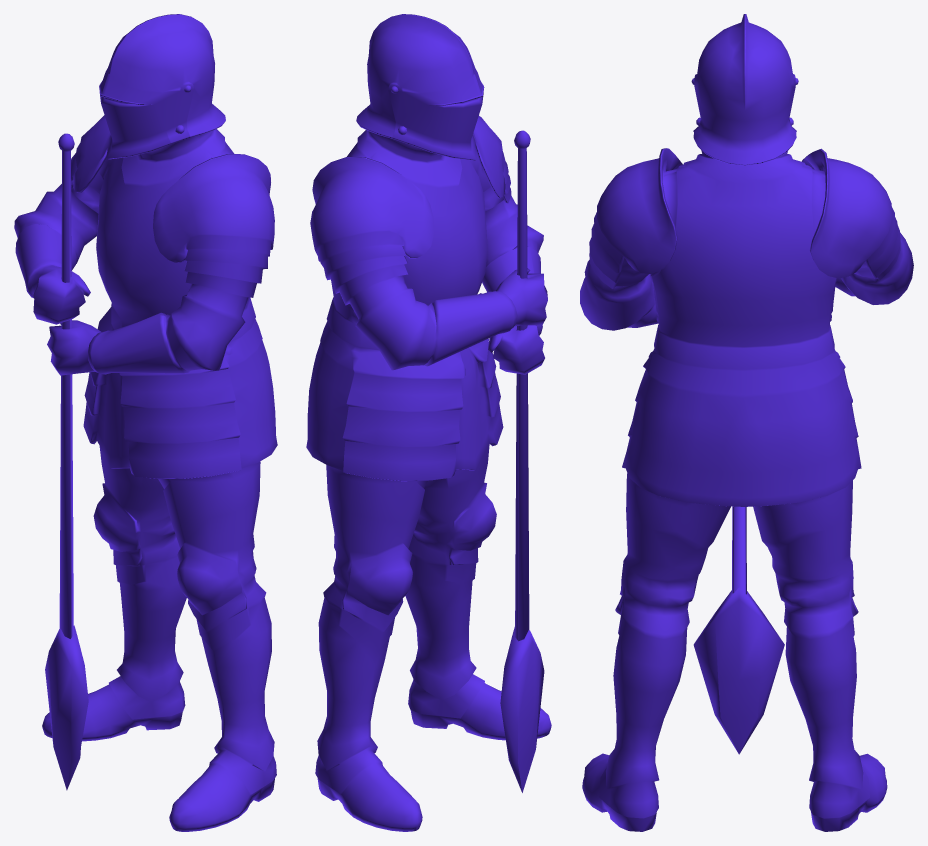
File: Statue_Spear.fbx
3 renders of one model, left to right at view 1: azimuth 30°, elevation 25°; view 2: azimuth 150°, elevation 25°; view 3: azimuth 270°, elevation 25°, orthographic. The views are drawn at different scales.
Parts seen in each view (by area): view 1: Statue_Spear; view 2: Statue_Spear; view 3: Statue_Spear.
Part boxes in pixels (<box>): Statue_Spear: <box>14,14,277,831</box>; Statue_Spear: <box>306,14,551,831</box>; Statue_Spear: <box>580,14,913,831</box>.
Bounding box in the file's own units: 1.54 × 1.93 × 5.01.
